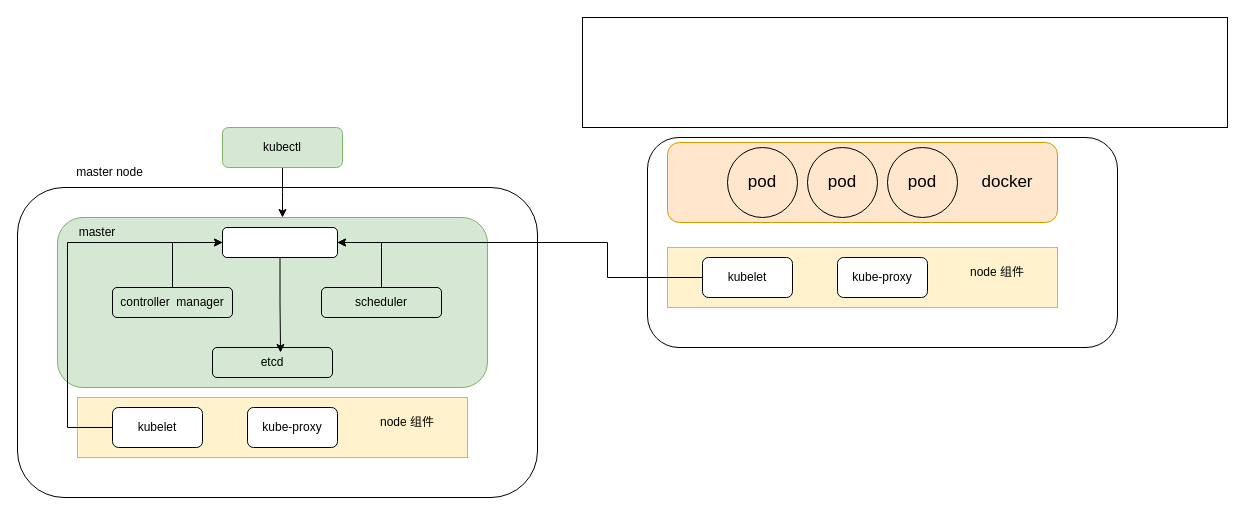
Image size: 1245x515. Some labels were removed from this diagram. Here are the shapes that lost their labels. From the top down, the centre of each, then its label:
At pixel 905 72: "node pool".
At pixel 280 242: "api service".
